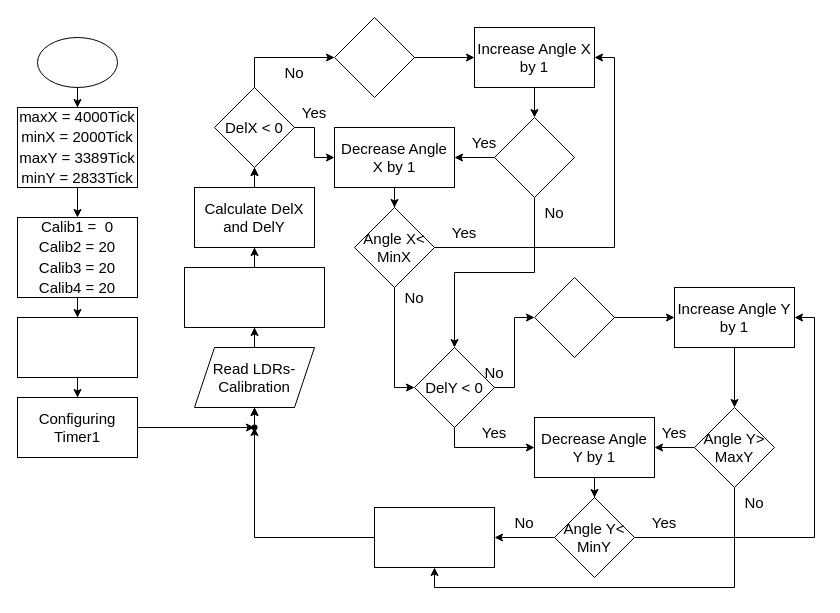
The diagram is 840 pixels wide and 613 high, and some of its shapes have lost their labels. The centre of each missing label's shape, as x and y in pixels:
Angle X> MaxX: [534,157]
Calculate Average for Each LDR for 25 Readings: [254,297]
DelX > 0: [374,57]
DelY > 0: [574,317]
PortB as Output PortC as Input: [77,347]
set Motor X and Motor Y to Angle X and Angle Y: [434,537]
Start: [77,62]
